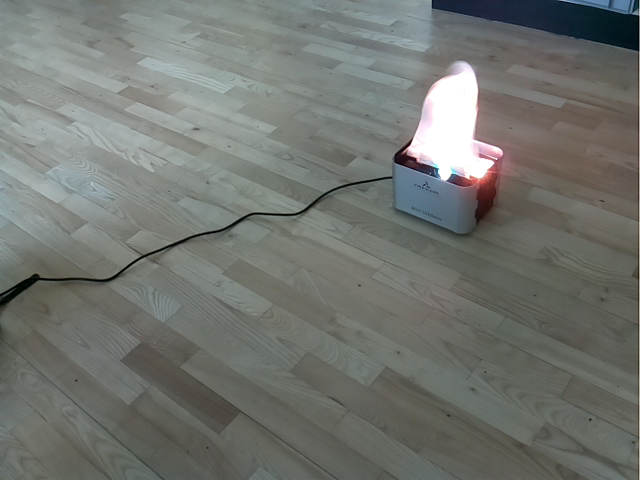fire: (407, 60, 485, 180)
